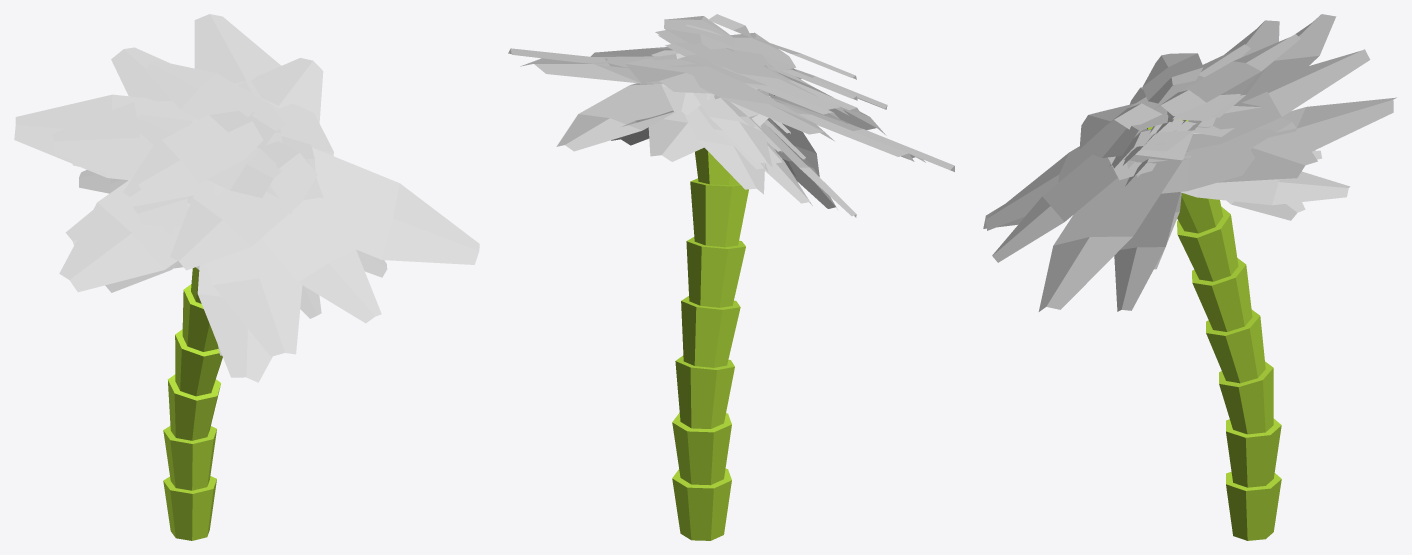
The model's file is Palma.fbx.
3 views of the same model, side by side, from view 1: azimuth 30°, elevation 25°; view 2: azimuth 150°, elevation 25°; view 3: azimuth 270°, elevation 25° (orthographic). The views are drawn at different scales.
Parts seen in each view (by area): view 1: Plane.023, Plane.002; view 2: Plane.023, Plane.002; view 3: Plane.023, Plane.002.
Part boxes in pixels (x1=…): Plane.023: x1=14, y1=14, x2=479, y2=382; Plane.002: x1=163, y1=267, x2=222, y2=540; Plane.023: x1=508, y1=14, x2=954, y2=217; Plane.002: x1=672, y1=147, x2=748, y2=540; Plane.023: x1=983, y1=14, x2=1396, y2=311; Plane.002: x1=1147, y1=119, x2=1281, y2=540.
Size of the model in its own units: 1567 by 1831 by 1410.
